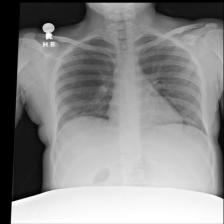normal: (50, 27, 212, 145)
